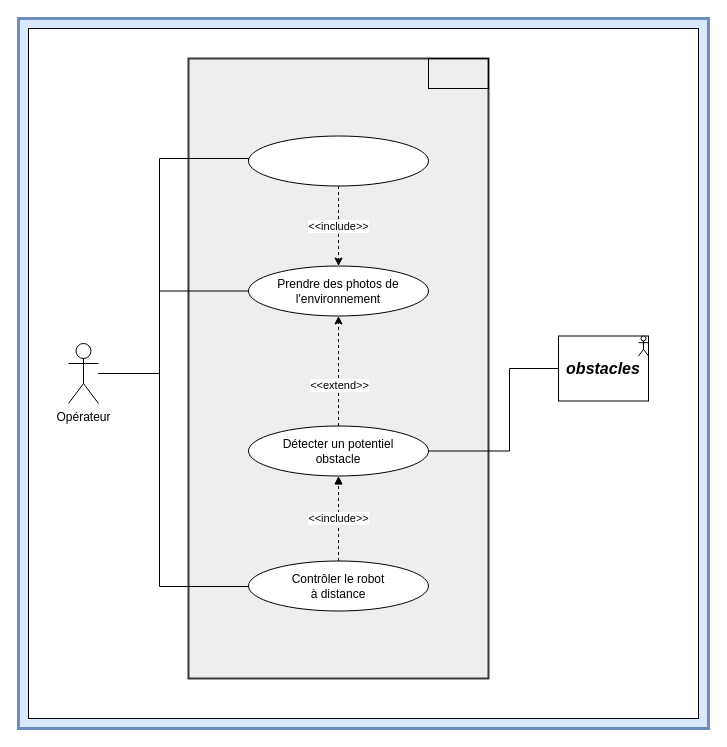
Image size: 727x747. Some labels were removed from this diagram. Here are the shapes that lost their labels. From the top down, the centre of each, then its label:
[458,73]: UC : Robot
[338,160]: Consulter les images prises par le robot
